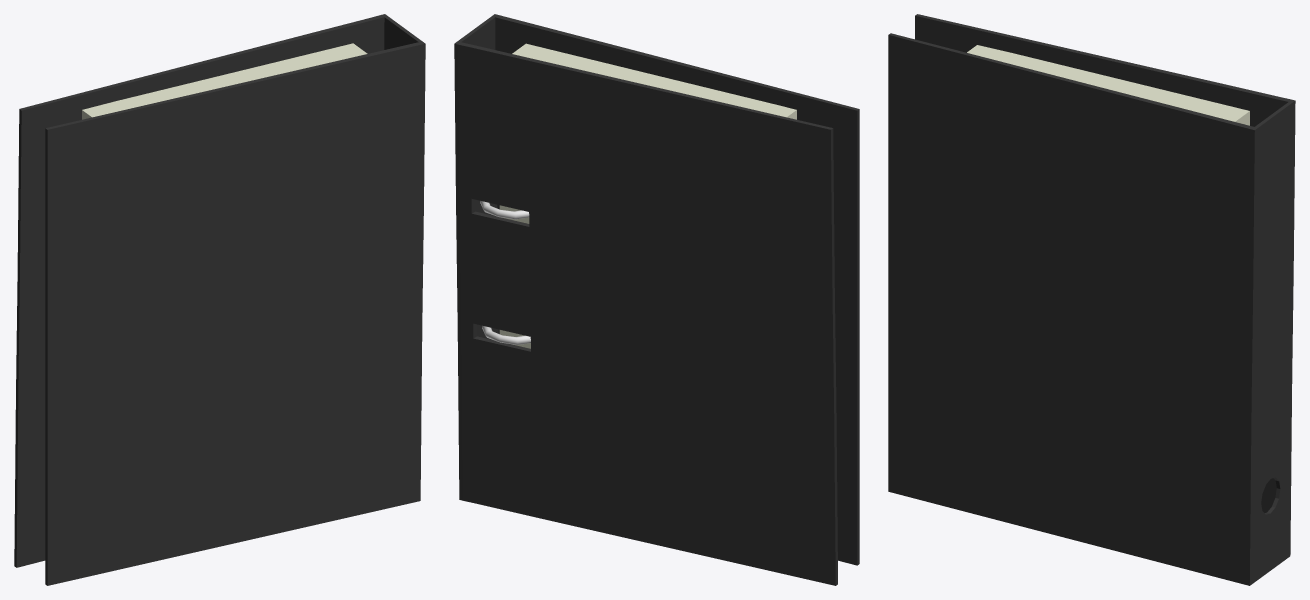
File: Farde Remplie.glb
The picture shows the model from 3 angles, left to right: view 1: azimuth 30°, elevation 25°; view 2: azimuth 150°, elevation 25°; view 3: azimuth 330°, elevation 25°; orthographic projection.
Parts seen in each view (by area): view 1: Farde cover full, Feuilles; view 2: Farde cover full, Feuilles; view 3: Farde cover full, Feuilles.
Boxes of the visible parts, x1,y1,x2,y2 form: Farde cover full: [14, 14, 425, 585]; Feuilles: [82, 43, 367, 119]; Farde cover full: [454, 14, 859, 585]; Feuilles: [499, 43, 796, 348]; Farde cover full: [888, 14, 1295, 585]; Feuilles: [967, 45, 1249, 125].
Size of the model in its own units: 0.2666 by 0.3086 by 0.0522.
